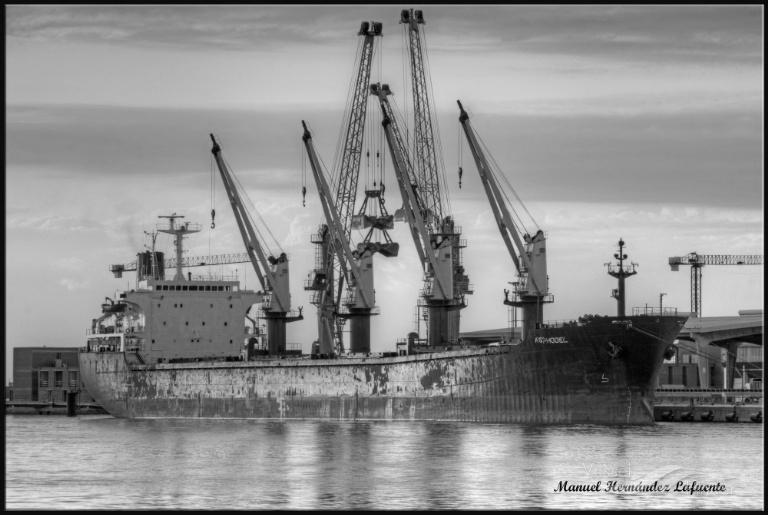OCR: (530, 331, 572, 347)
